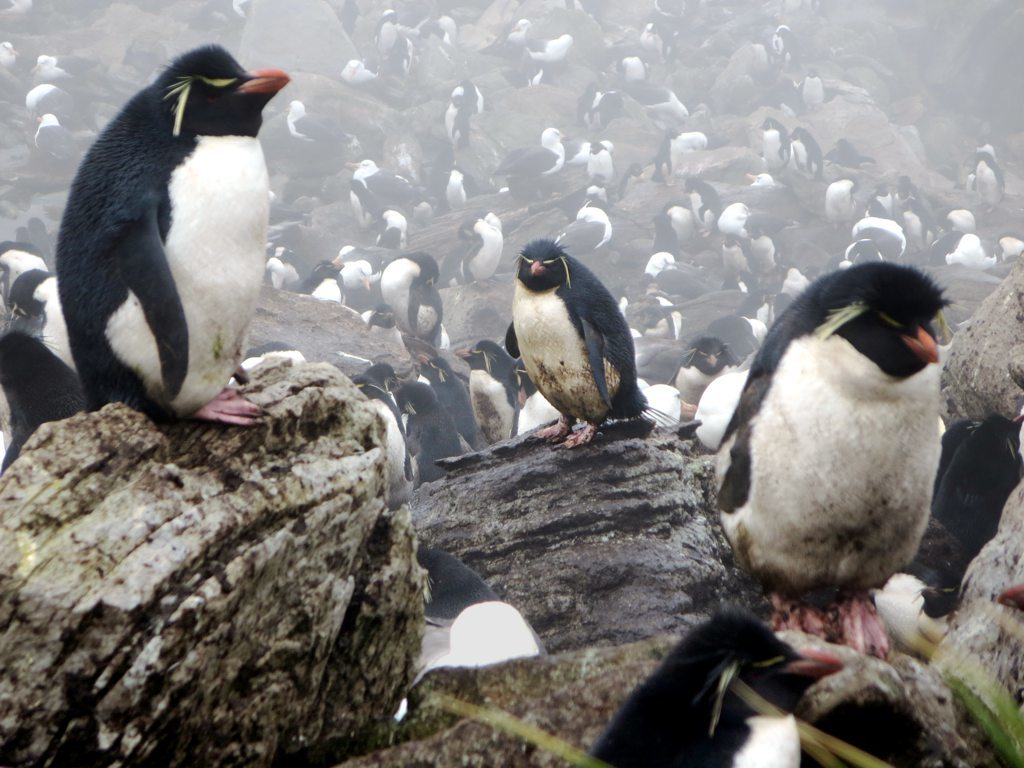person: (502, 235, 672, 445)
